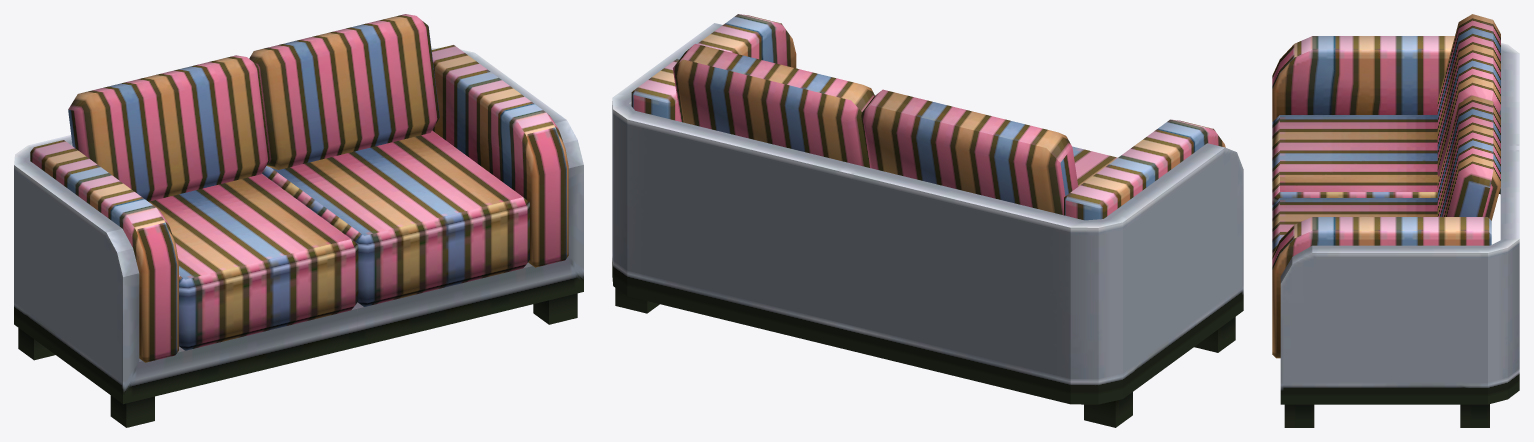
The model's file is furni_0200612.FBX.
The picture shows the model from 3 angles, left to right: view 1: azimuth 30°, elevation 25°; view 2: azimuth 150°, elevation 25°; view 3: azimuth 270°, elevation 25°; orthographic projection. The views are drawn at different scales.
Parts seen in each view (by area): view 1: furni_0200612; view 2: furni_0200612; view 3: furni_0200612.
Part boxes in pixels (x1,y1,x2,y2): furni_0200612: [14, 14, 583, 427]; furni_0200612: [612, 14, 1243, 427]; furni_0200612: [1272, 14, 1519, 427].
Bounding box in the file's own units: 159 × 80.62 × 77.55.
Materials: 1 (1 with a texture image).
